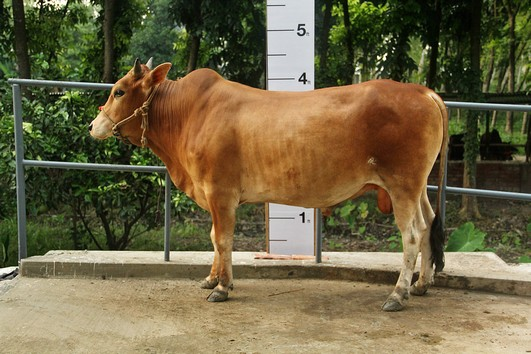cow: (85, 53, 460, 316)
